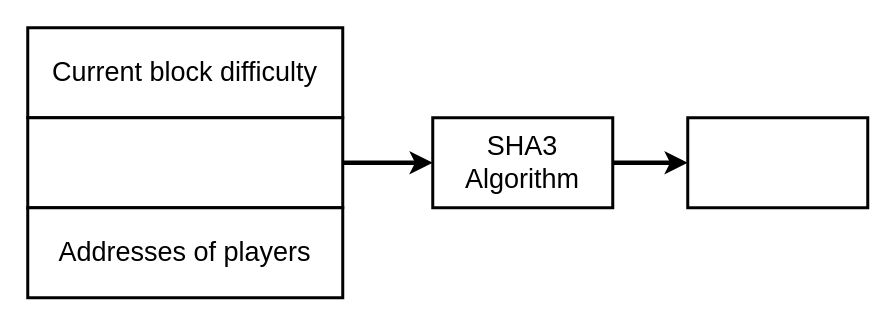
This 894x324 diagram has some shape labels left out. The centre of each missing label's shape, as x and y in pixels:
"Current time" belongs at (185,162).
"Really big number" belongs at (777,162).
